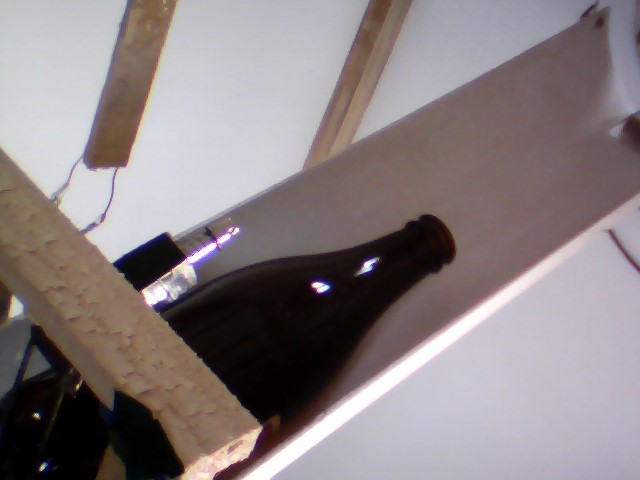vidrio: (187, 204, 480, 440)
